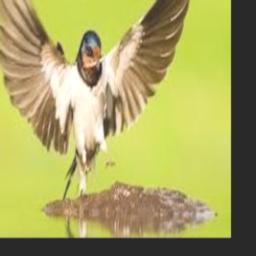Swallow: (0, 0, 197, 198)
